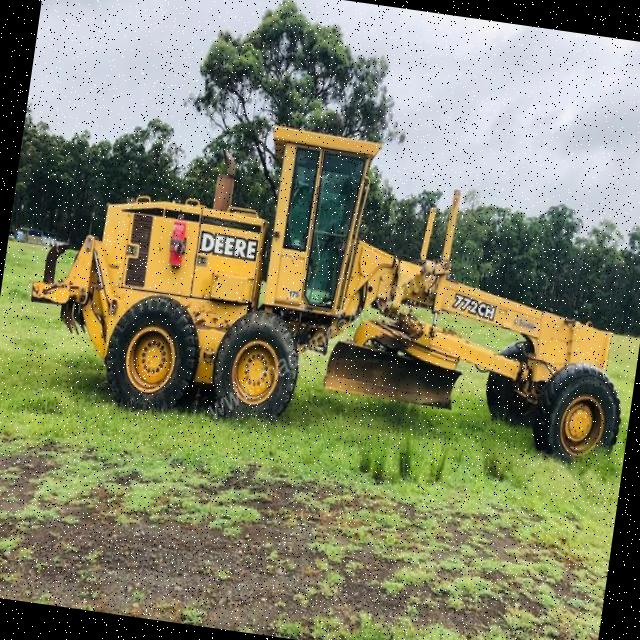Grader: (22, 85, 640, 505)
